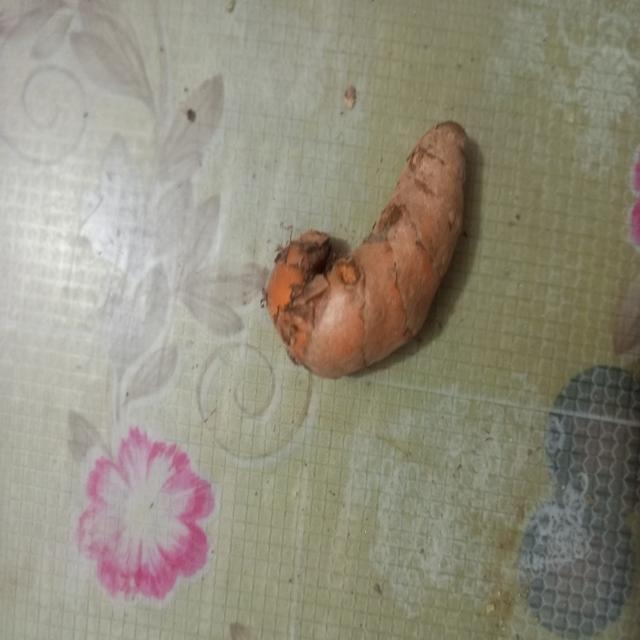ginger: (270, 120, 470, 374)
